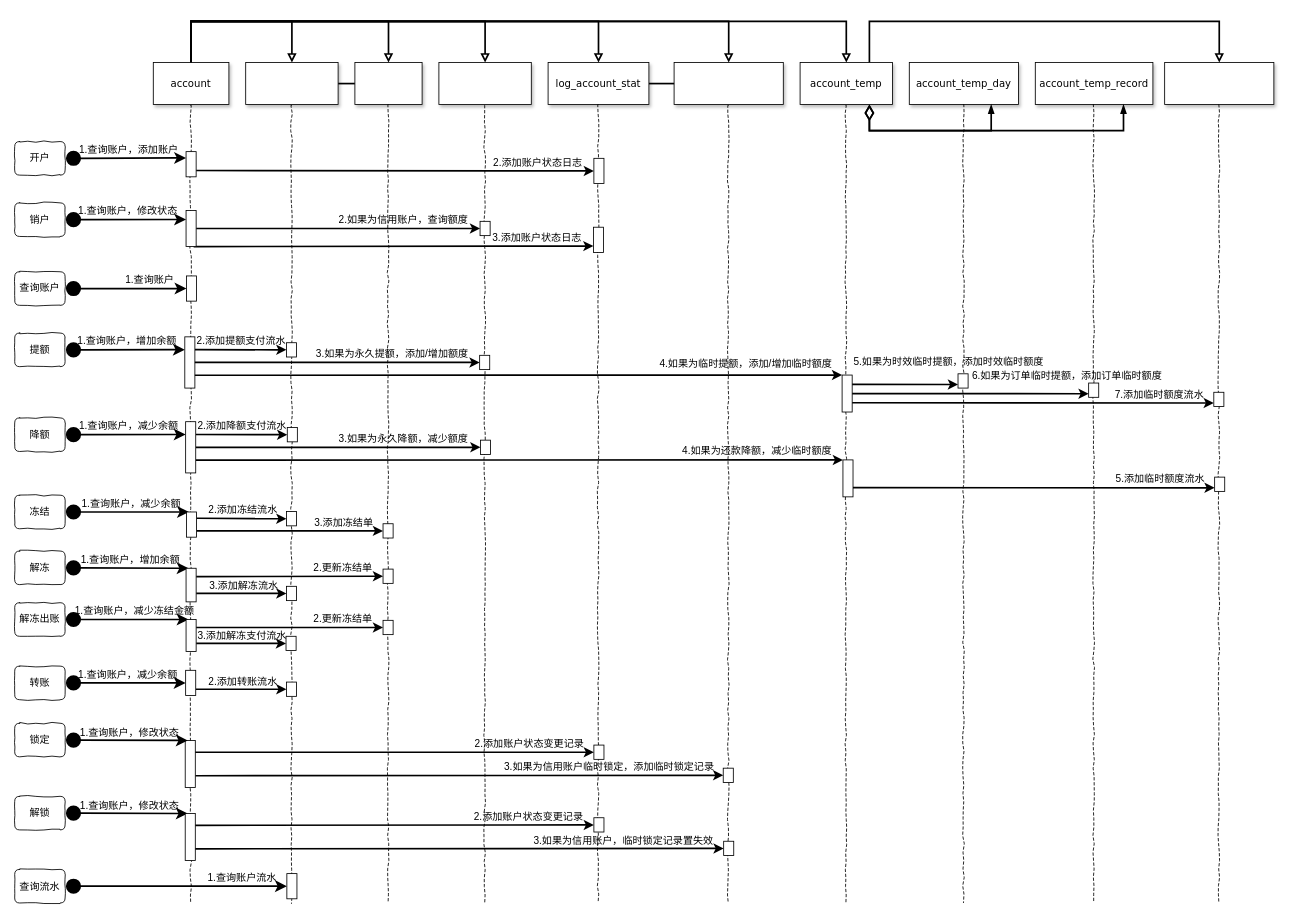
The diagram is 1294 pixels wide and 918 high, and some of its shapes have lost their labels. The centre of each missing label's shape, as x and y in pixels:
account_credit: point 485,84
account_serial: point 292,84
account_temp_lock: point 729,84
account_temp_serial: point 1219,84
frzbill: point 389,84
